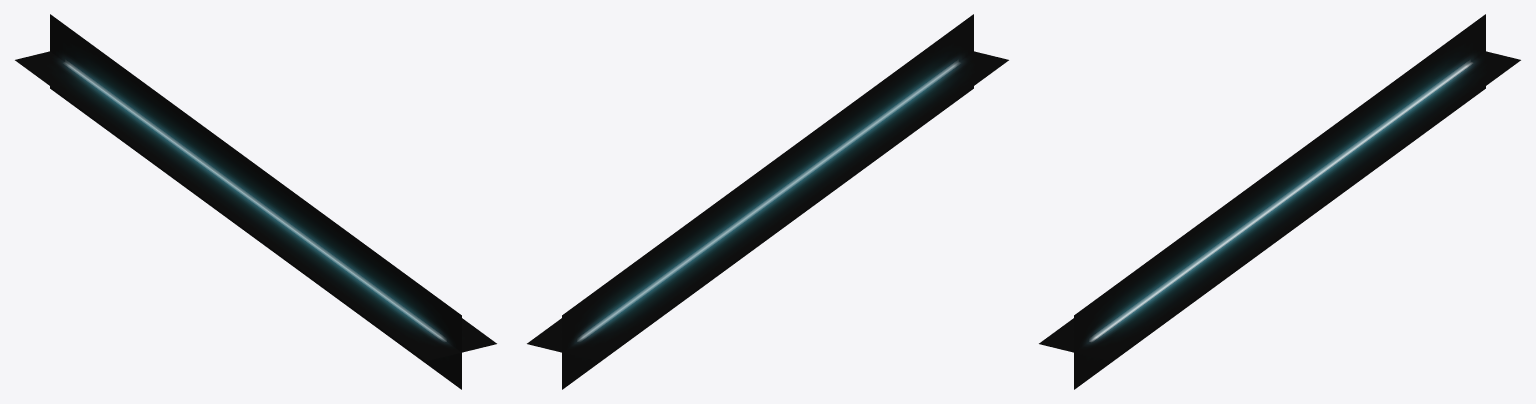
The model's file is si_eos_2000.glb.
3 views of the same model, side by side, from view 1: azimuth 30°, elevation 25°; view 2: azimuth 150°, elevation 25°; view 3: azimuth 330°, elevation 25° (orthographic).
Parts seen in each view (by area): view 1: layer_00_si_eos_2000; view 2: layer_00_si_eos_2000; view 3: layer_00_si_eos_2000.
Part boxes in pixels (box(x1,y1,x2,y2)): layer_00_si_eos_2000: box(15, 14, 496, 389); layer_00_si_eos_2000: box(527, 14, 1008, 389); layer_00_si_eos_2000: box(1039, 14, 1520, 389).
Size of the model in its own units: 10 by 10 by 100.
1 material, 1 textured.
